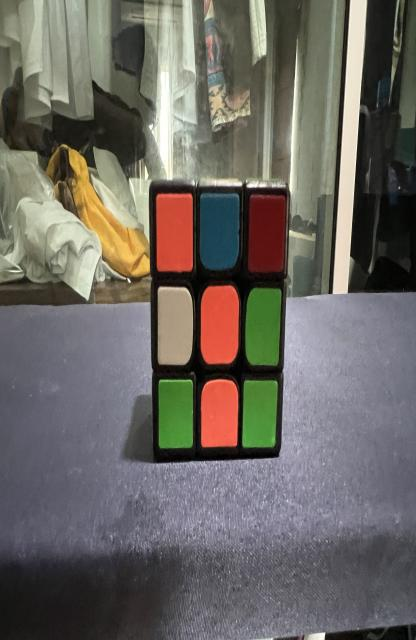Blue: (200, 193, 240, 270)
Green: (245, 288, 281, 367), (242, 380, 278, 448), (158, 380, 193, 448)
Orange: (201, 285, 240, 365), (156, 193, 193, 272), (201, 378, 238, 448)
Red: (248, 195, 286, 273)
White: (158, 287, 193, 365)
